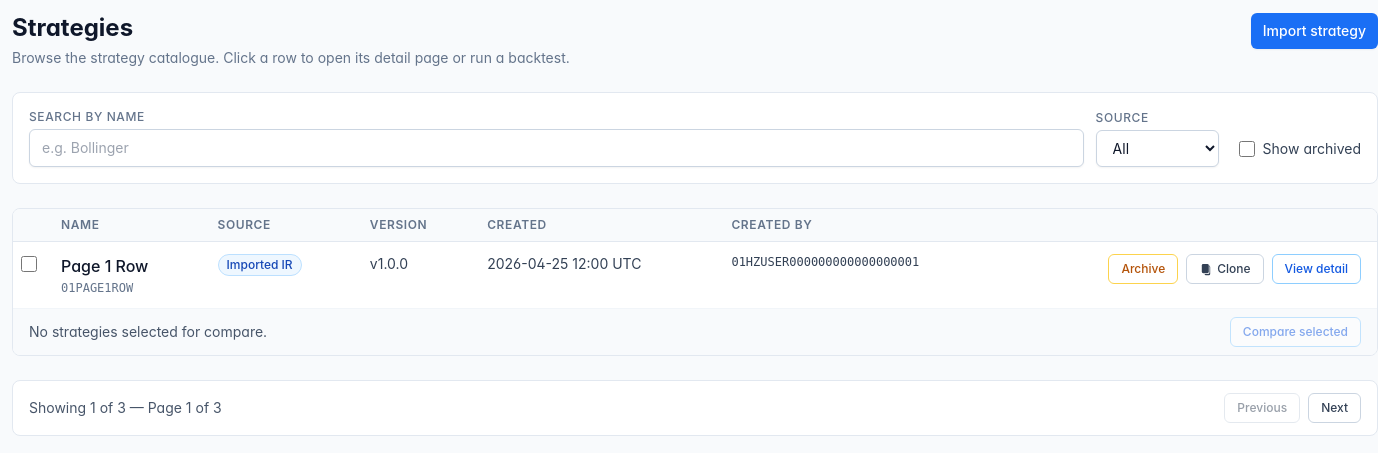
Test: Strategies browse page › Next / Prev pagination advances and retreats the page index
Expected: the text with test id "strategies-page-current" reads "1", [186,399,192,416]
Expected: the button with test id "strategies-page-prev" is disabled, [1224,393,1300,423]
// Next → Page 2
Click the button with test id "strategies-page-next" at (1335, 408), box [1308,393,1361,423]
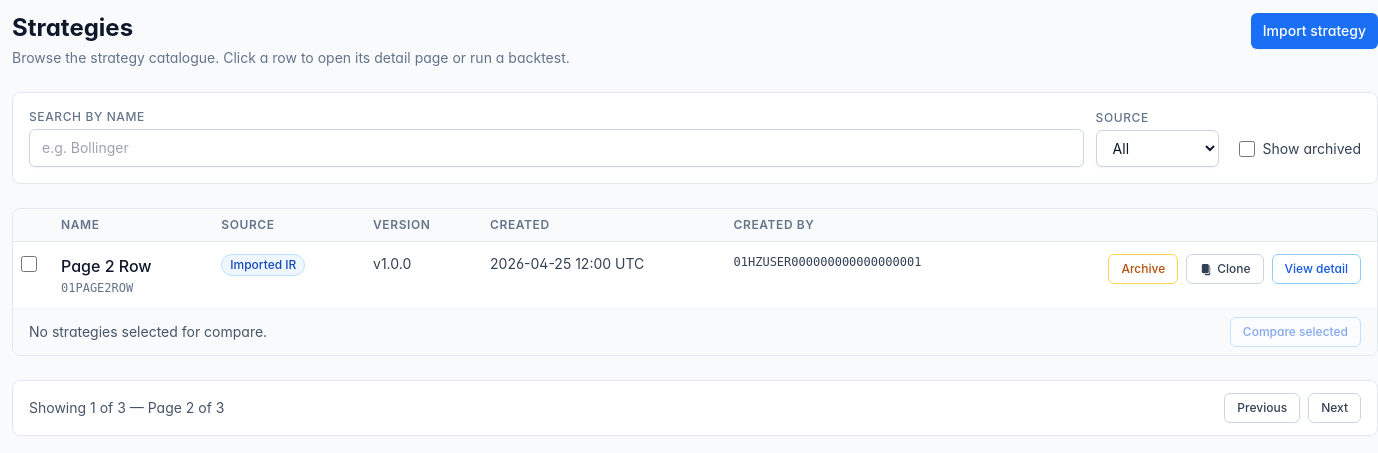
Now the text with test id "strategies-page-current" reads "2", box [186,399,194,416]
// Prev → Page 1
Click the button with test id "strategies-page-prev" at (1262, 408), box [1224,393,1300,423]
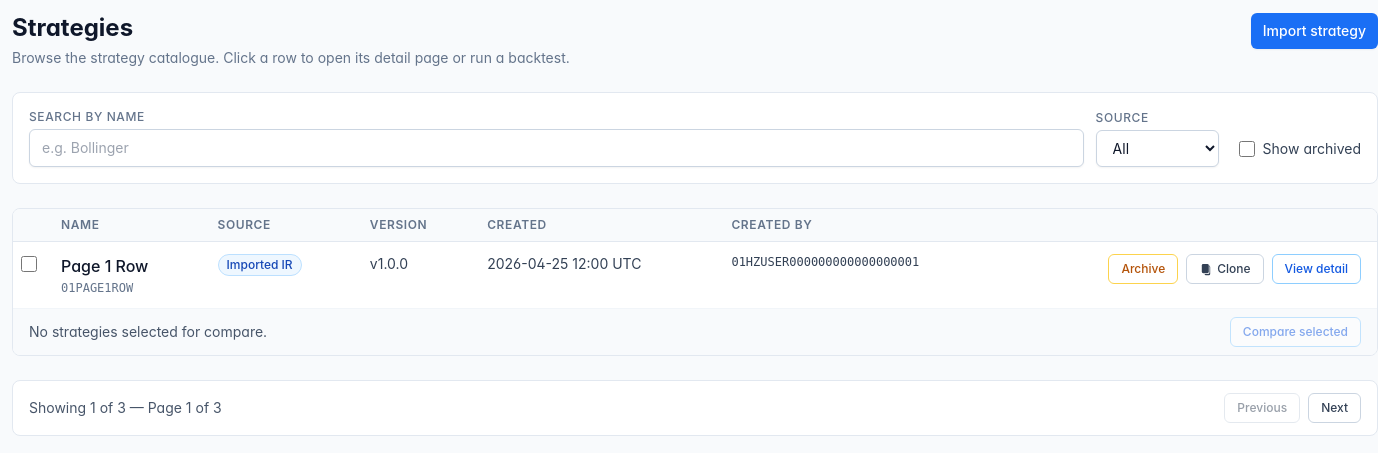
Now the text with test id "strategies-page-current" reads "1", box [186,399,192,416]
